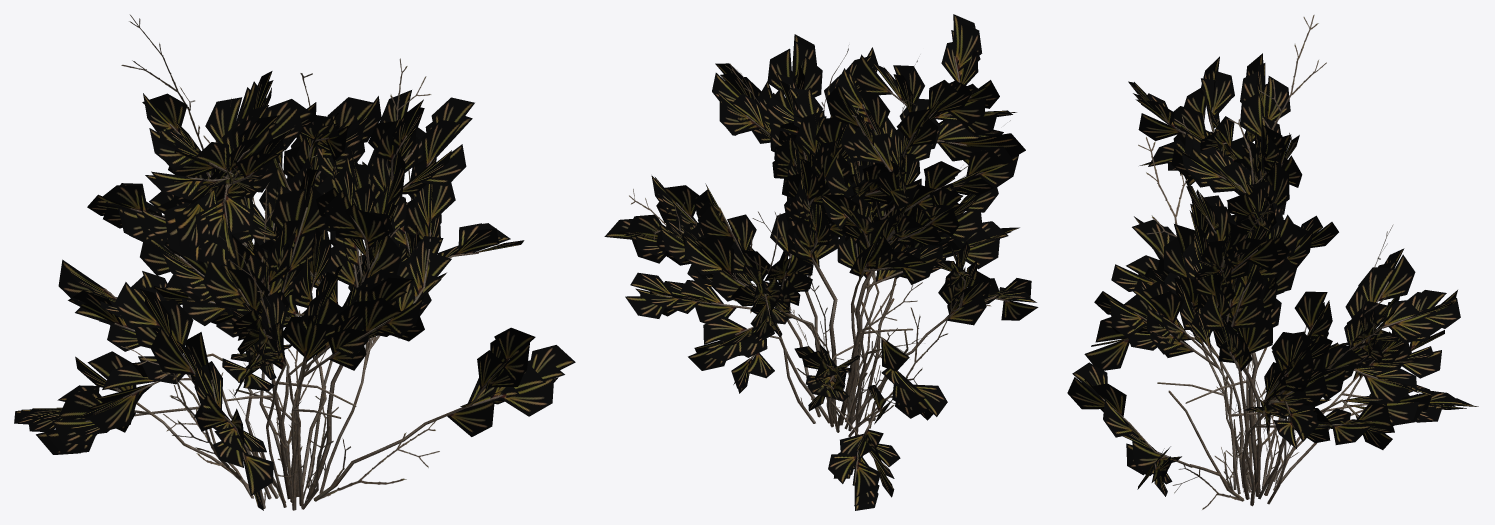
Rendered from bush_b.glb.
The picture shows the model from 3 angles, left to right: view 1: azimuth 30°, elevation 25°; view 2: azimuth 150°, elevation 25°; view 3: azimuth 270°, elevation 25°; orthographic projection. The views are drawn at different scales.
Parts seen in each view (by area): view 1: wild_rooibos_bush_b; view 2: wild_rooibos_bush_b; view 3: wild_rooibos_bush_b.
Part boxes in pixels (<box>): wild_rooibos_bush_b: <box>14,14,575,510</box>; wild_rooibos_bush_b: <box>604,14,1038,510</box>; wild_rooibos_bush_b: <box>1067,15,1478,509</box>.
Bounding box in the file's own units: 0.5243 × 0.5413 × 0.4747.
Materials: 3 (3 with a texture image).
